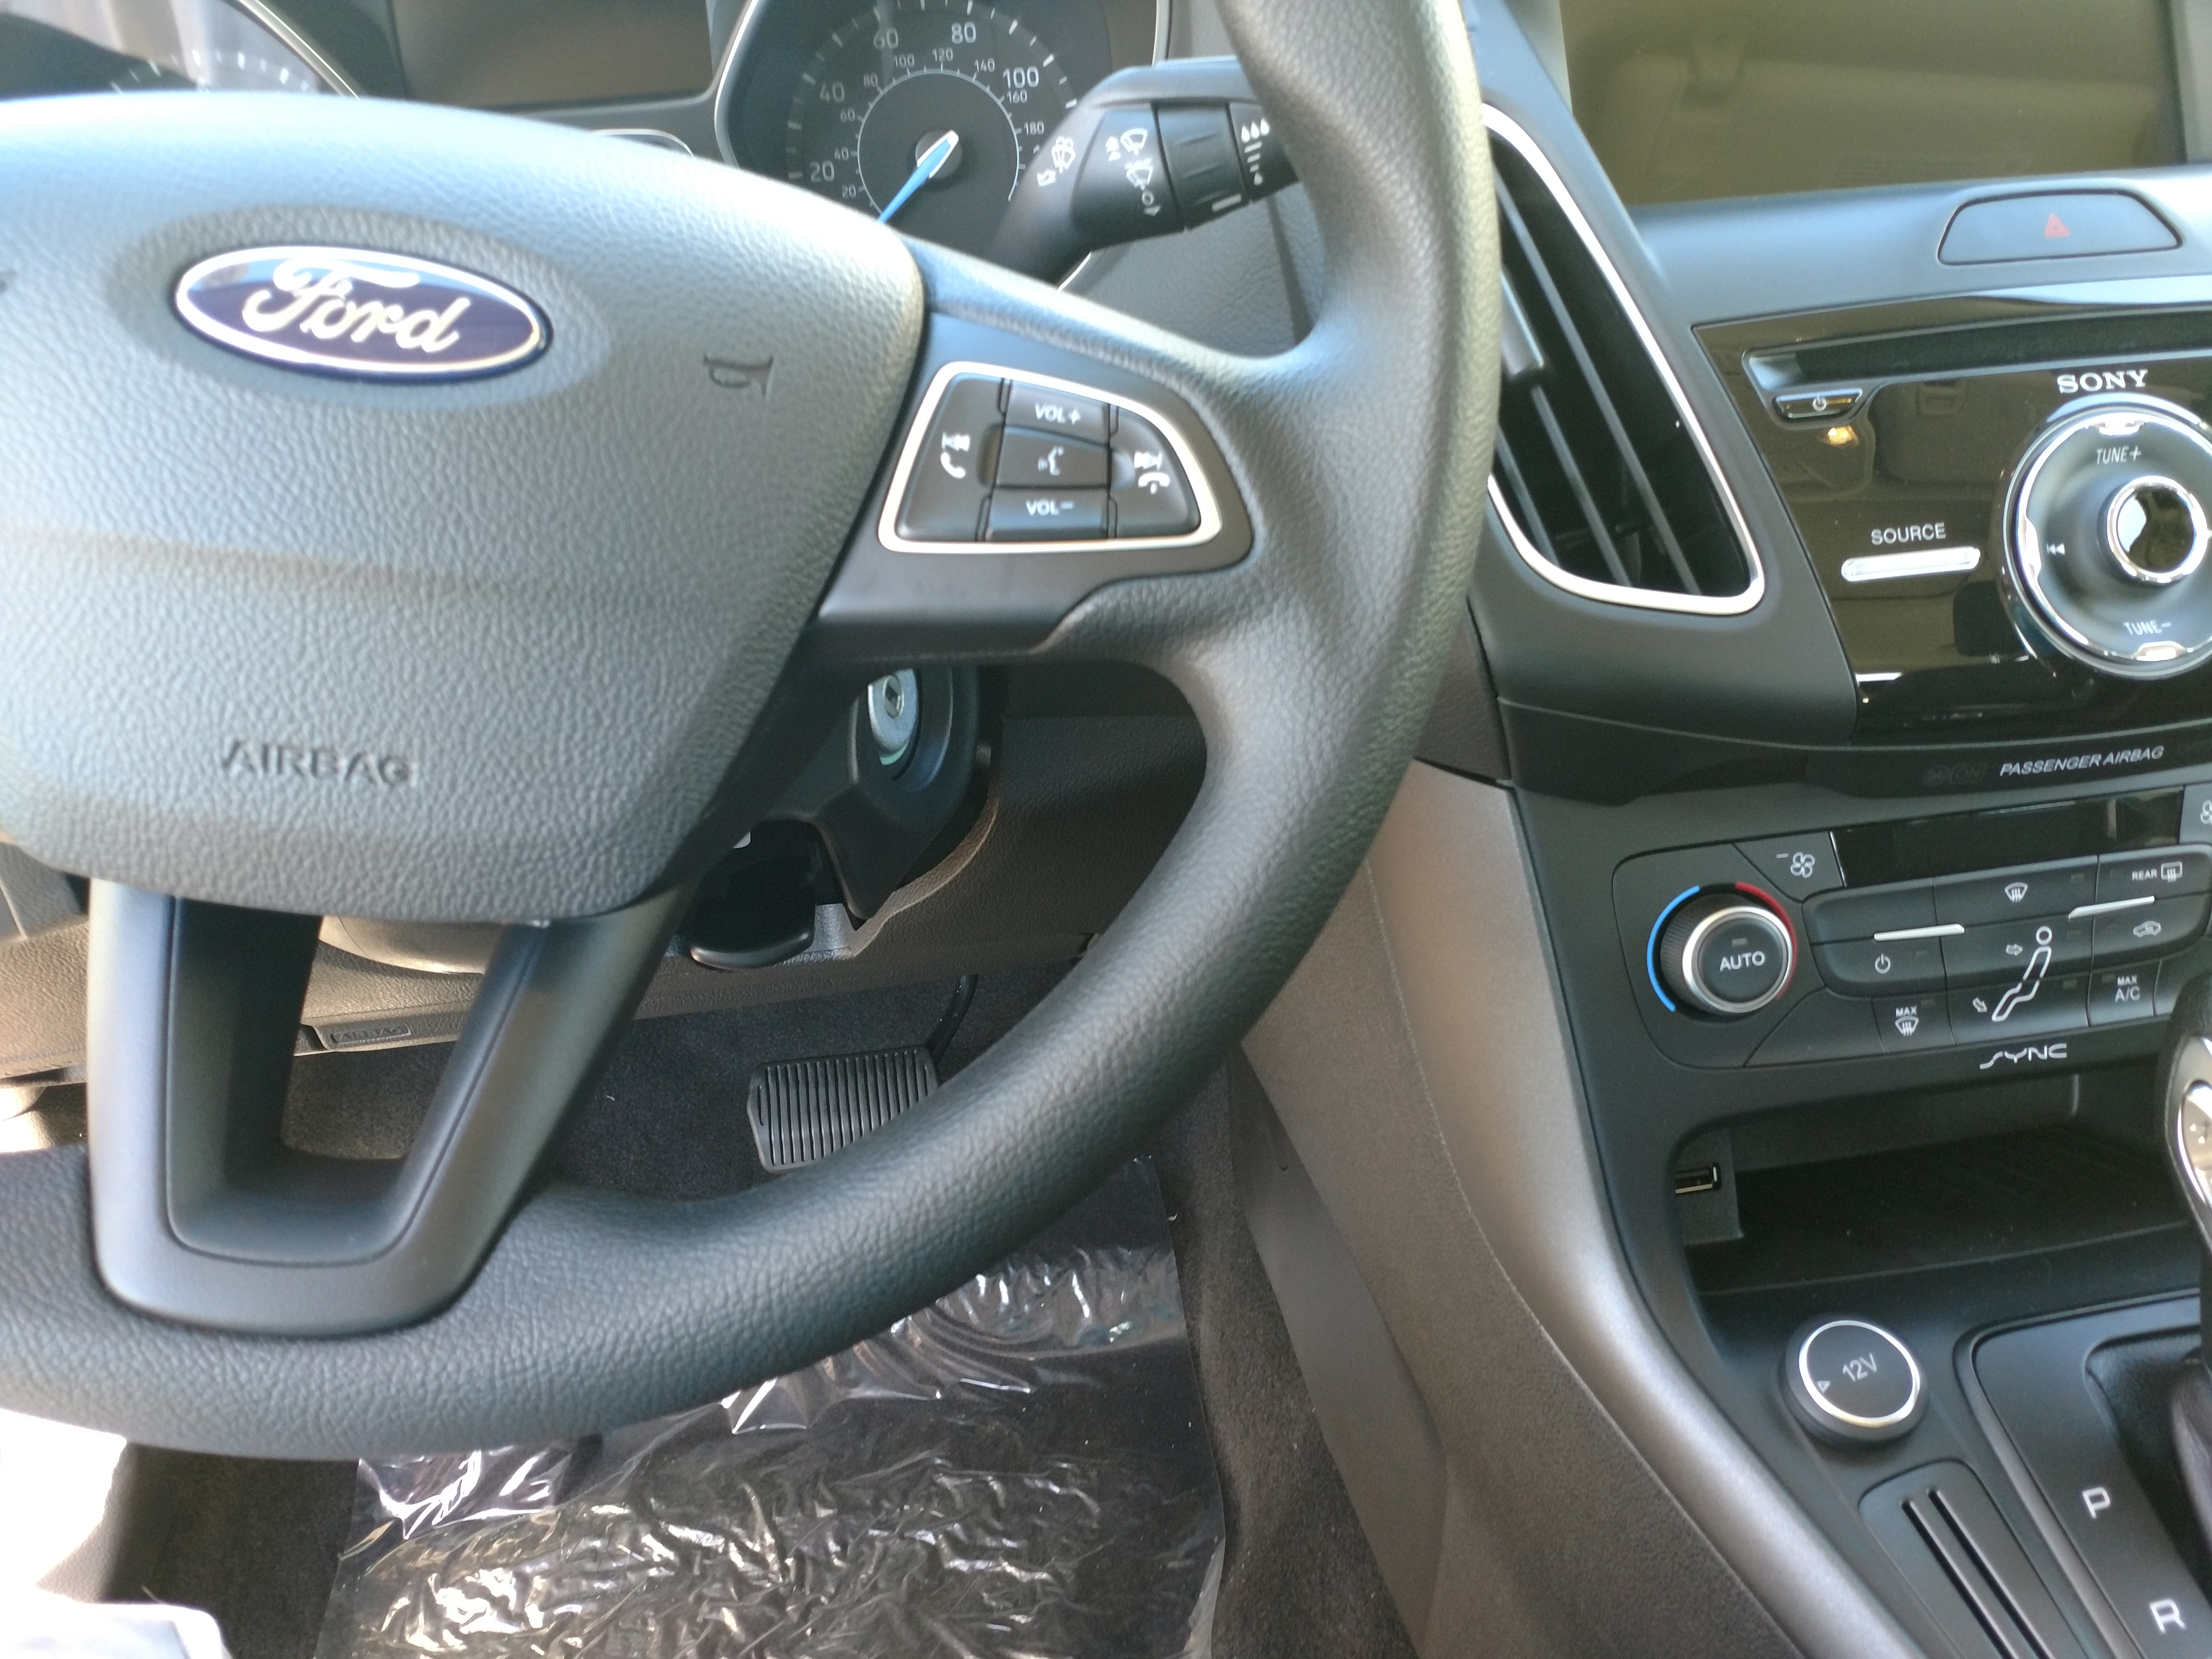Ford: (160, 230, 563, 392)
